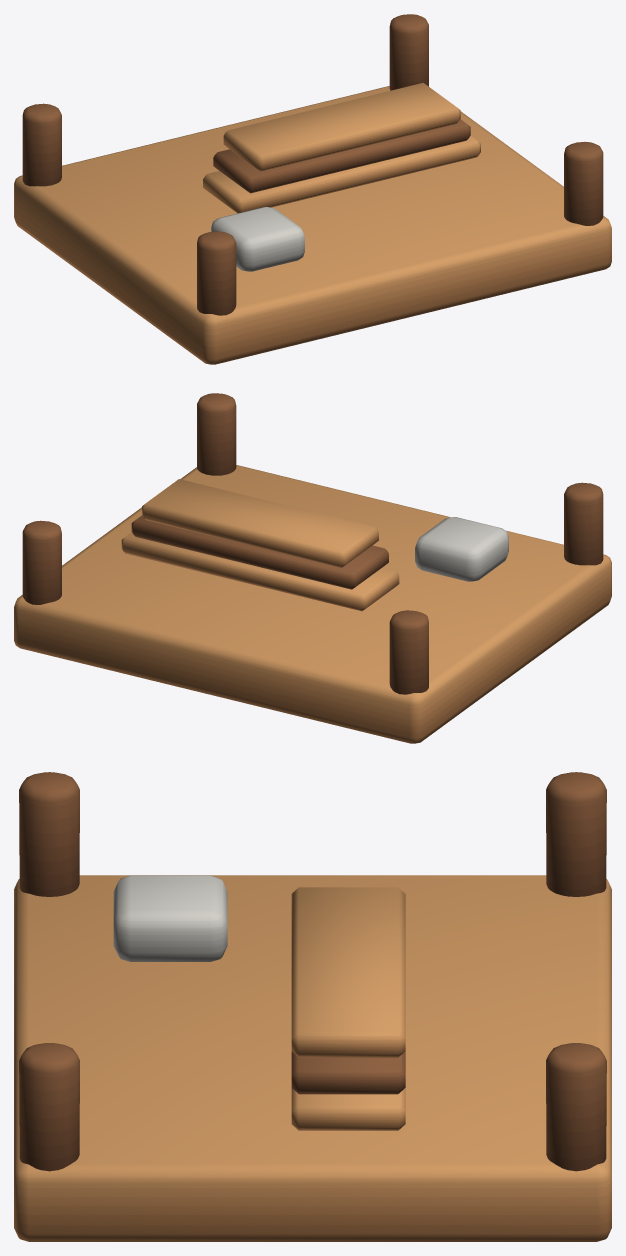
The model's file is stageA.glb.
3 views of the same model, one above another, from view 1: azimuth 30°, elevation 25°; view 2: azimuth 150°, elevation 25°; view 3: azimuth 270°, elevation 25° (orthographic). The views are drawn at different scales.
Parts seen in each view (by area): view 1: stageA; view 2: stageA; view 3: stageA.
Boxes of the visible parts, x1,y1,x2,y2 form: stageA: [14, 14, 611, 364]; stageA: [14, 393, 611, 743]; stageA: [14, 772, 611, 1241].
Bounding box in the file's own units: 1 × 0.28 × 0.84.
Materials: 1 (1 with a texture image).
